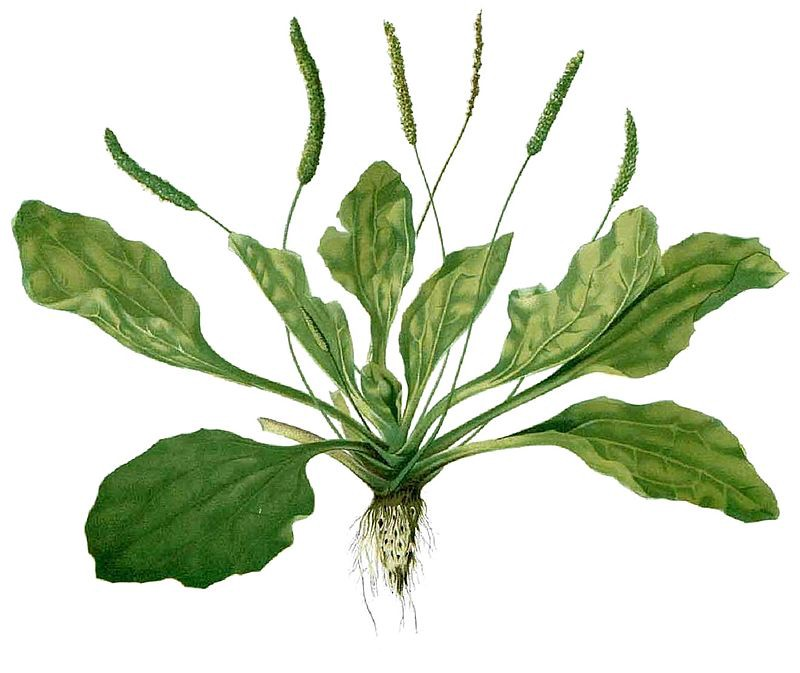buckhorn plantain: (93, 14, 778, 516)
